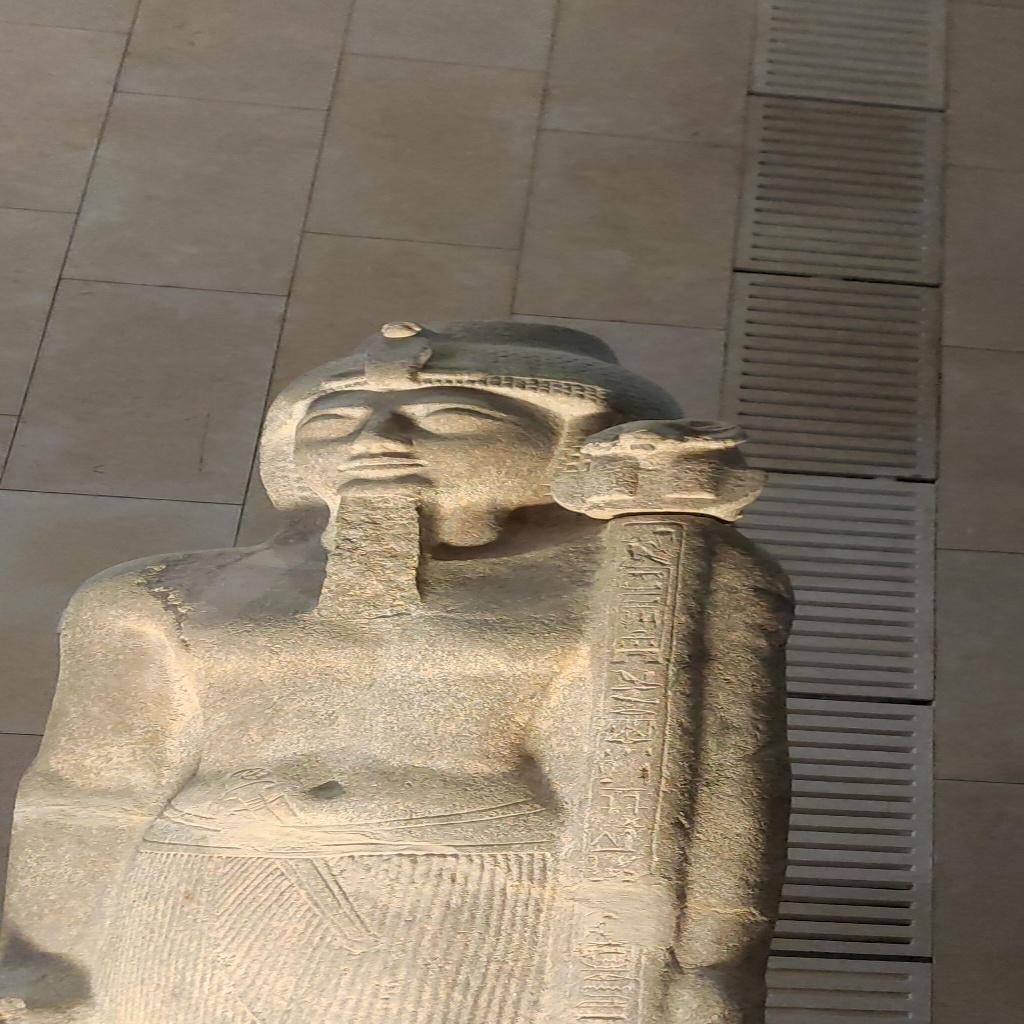Statue of Ramesses III as standard Bearer: (8, 316, 805, 1022)
